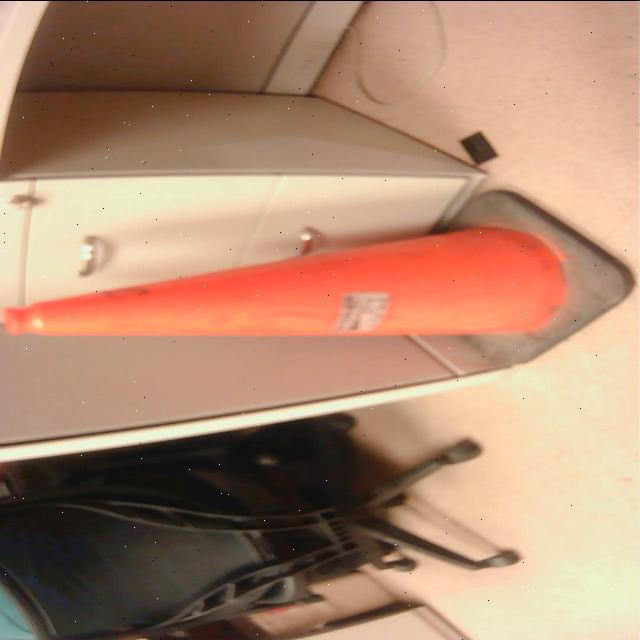traffic cone: (1, 179, 640, 373)
